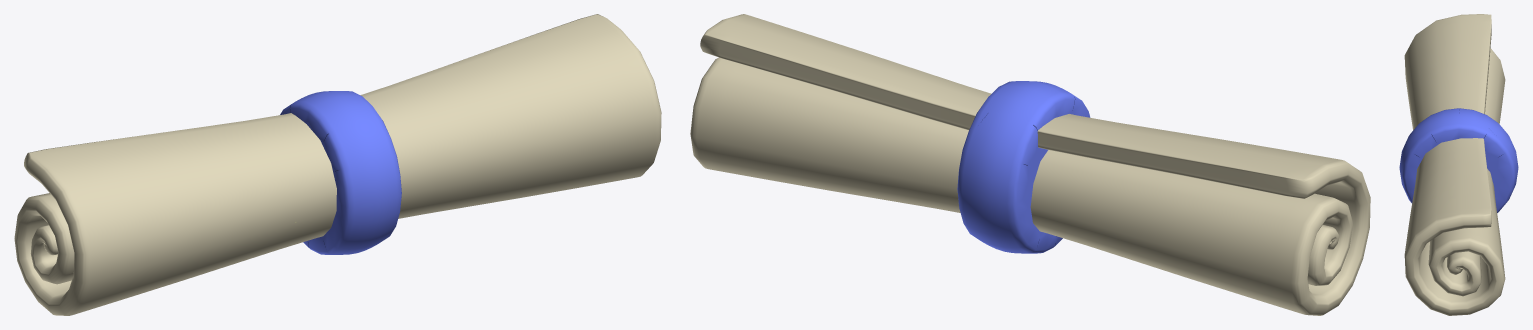
The model's file is Mapa.fbx.
The picture shows the model from 3 angles, left to right: view 1: azimuth 30°, elevation 25°; view 2: azimuth 150°, elevation 25°; view 3: azimuth 270°, elevation 25°; orthographic projection. The views are drawn at different scales.
Parts seen in each view (by area): view 1: Plane, Plane.001; view 2: Plane, Plane.001; view 3: Plane, Plane.001.
Part boxes in pixels (<box>): Plane: <box>14,14,661,315</box>; Plane.001: <box>280,91,401,254</box>; Plane: <box>690,14,1370,315</box>; Plane.001: <box>957,81,1090,253</box>; Plane: <box>1404,14,1505,315</box>; Plane.001: <box>1399,108,1518,212</box>.
Bounding box in the file's own units: 66.84 × 16.41 × 16.41.
